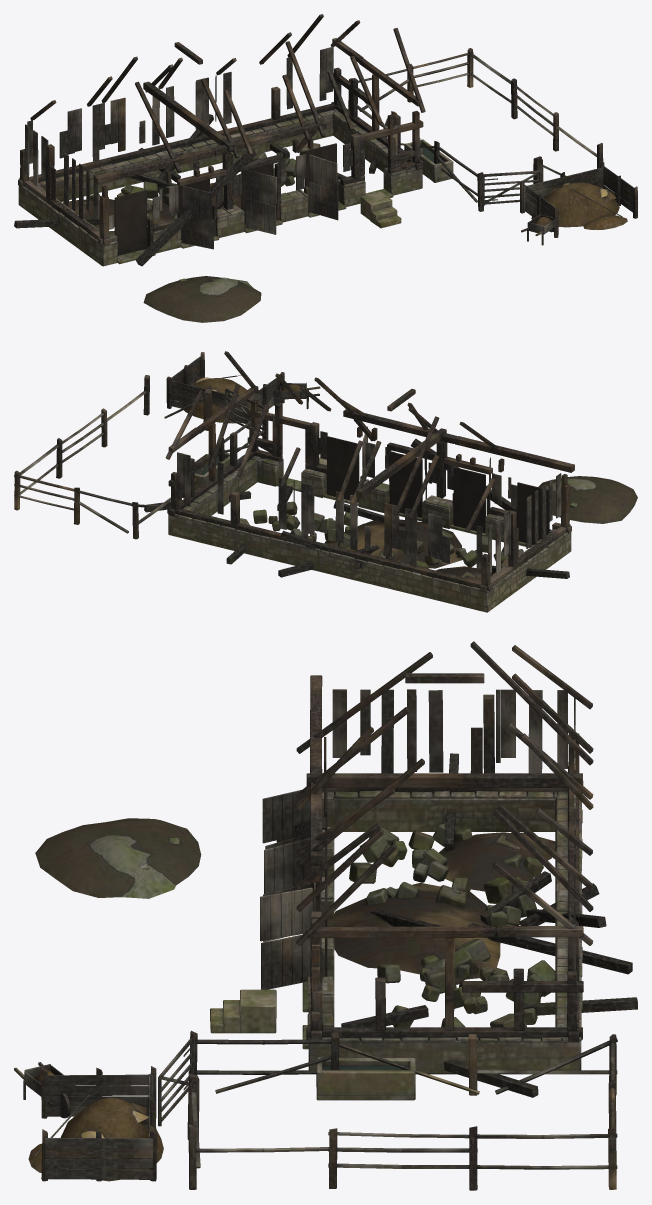
Rendered from stables_ruin.glb.
3 views of the same model, one above another, from view 1: azimuth 30°, elevation 25°; view 2: azimuth 150°, elevation 25°; view 3: azimuth 270°, elevation 25° (orthographic). The views are drawn at different scales.
Visible parts, largest first — view 1: stables_ruin_LOD0; view 2: stables_ruin_LOD0; view 3: stables_ruin_LOD0.
Part boxes in pixels (<box>): stables_ruin_LOD0: <box>14,14,637,322</box>; stables_ruin_LOD0: <box>14,351,637,612</box>; stables_ruin_LOD0: <box>14,641,637,1190</box>.
Size of what is drawn, in the model's own units: 19.17 by 5.77 by 12.64.
Materials: 1 (1 with a texture image).
